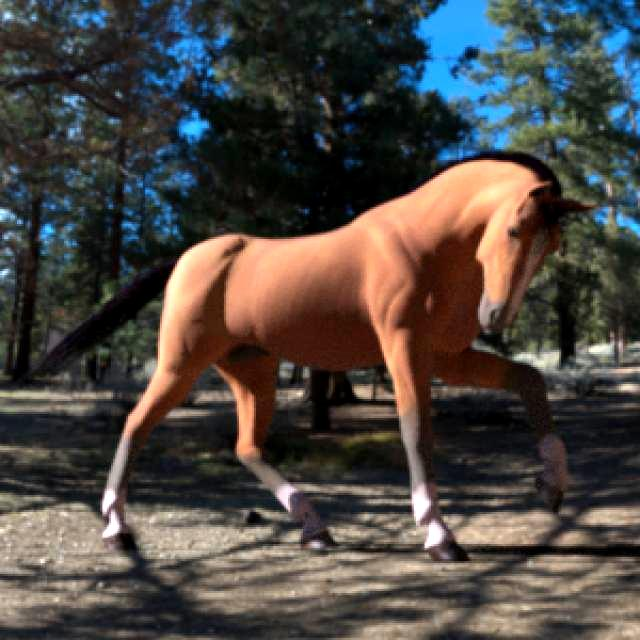horse: (28, 152, 591, 558)
